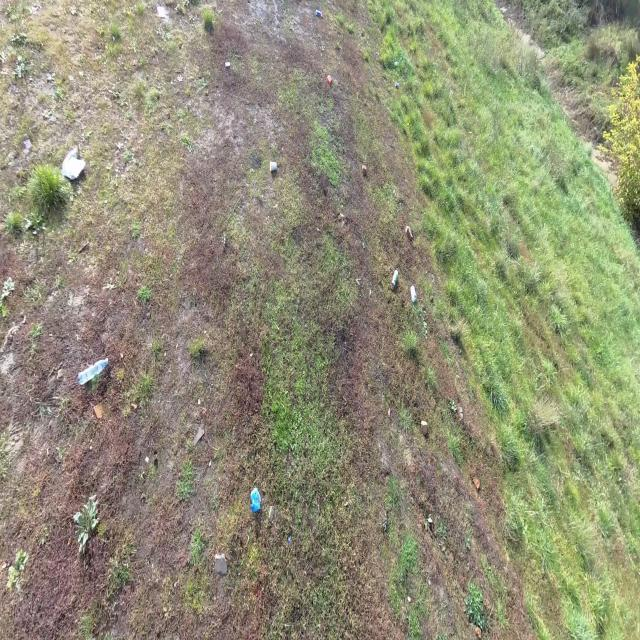rubbish: (77, 357, 109, 388), (61, 144, 87, 180), (250, 487, 261, 513), (390, 269, 399, 289), (404, 224, 414, 239), (410, 283, 417, 303), (420, 421, 428, 436), (314, 9, 323, 20), (269, 161, 277, 173), (361, 163, 367, 177), (326, 75, 333, 85), (393, 60, 400, 68), (393, 81, 399, 87), (225, 61, 230, 68)
